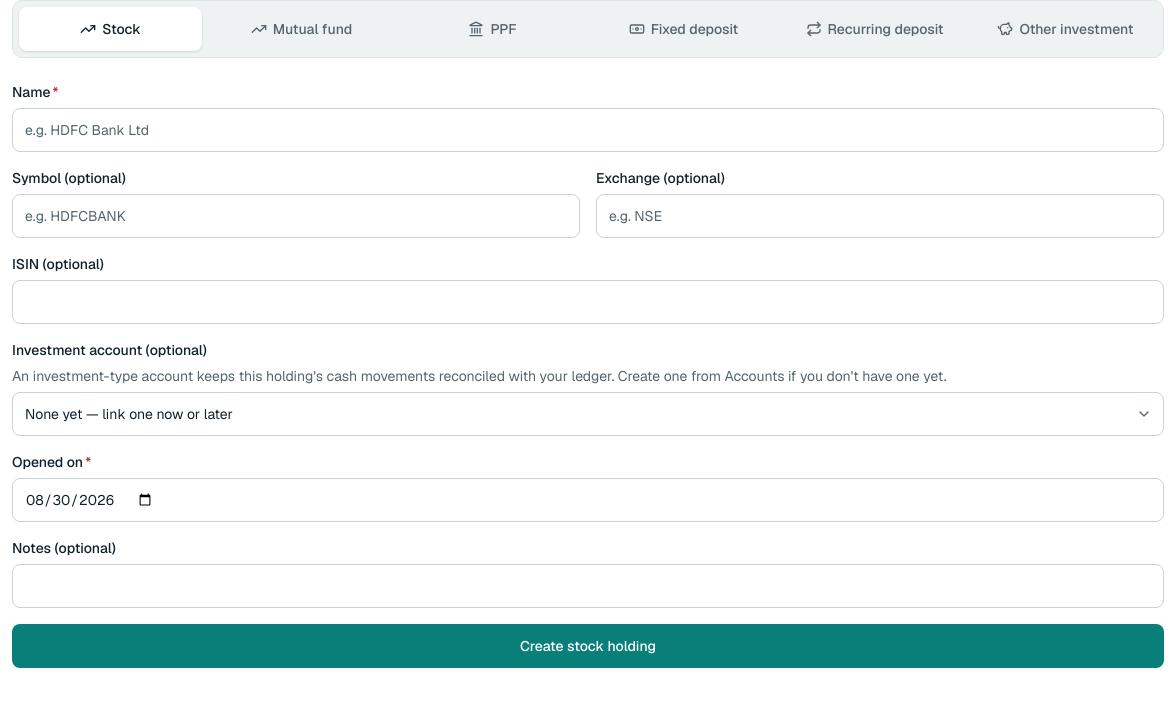
Test: NewInvestmentForm › switches to the mutual fund form, showing a scheme code field instead of symbol/exchange
Click the radio button labelled "Mutual fund" at {"x": 302, "y": 29}, box x1=210 y1=7 x2=393 y2=51
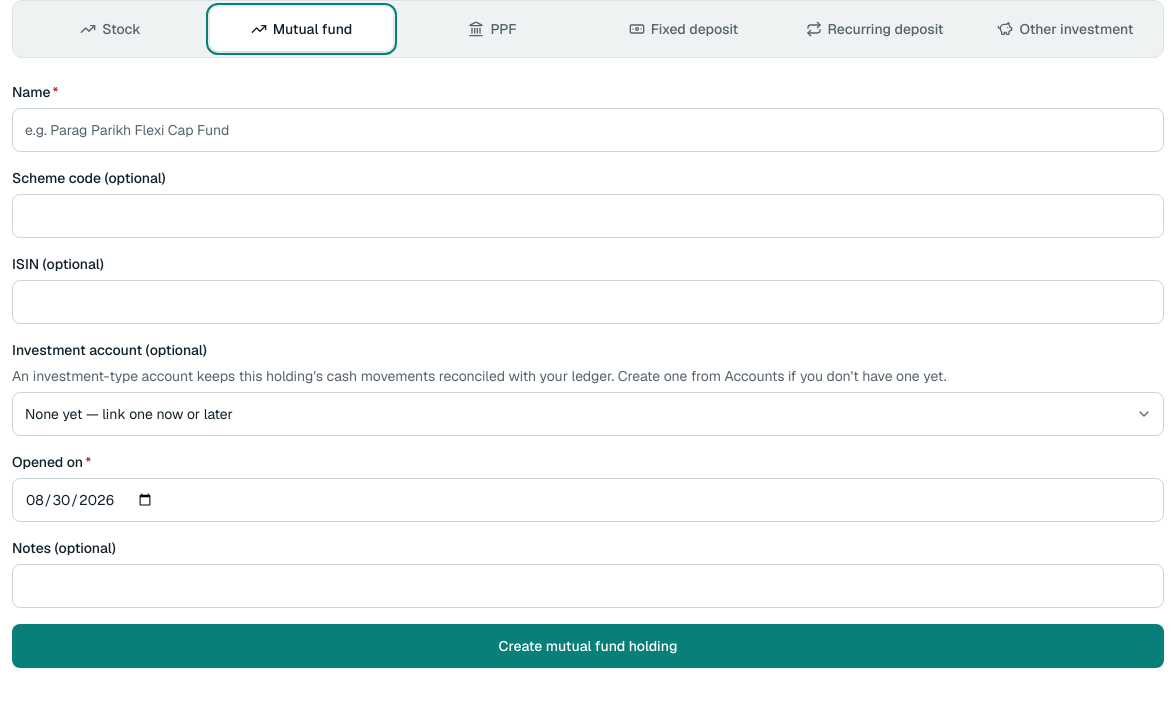
Check: the button "Create mutual fund holding" is shown, box x1=12 y1=624 x2=1164 y2=668
Check: the field labelled "Scheme code (optional)" is shown, box x1=12 y1=194 x2=1164 y2=238
Check: the label labelled "Symbol (optional)" is gone
